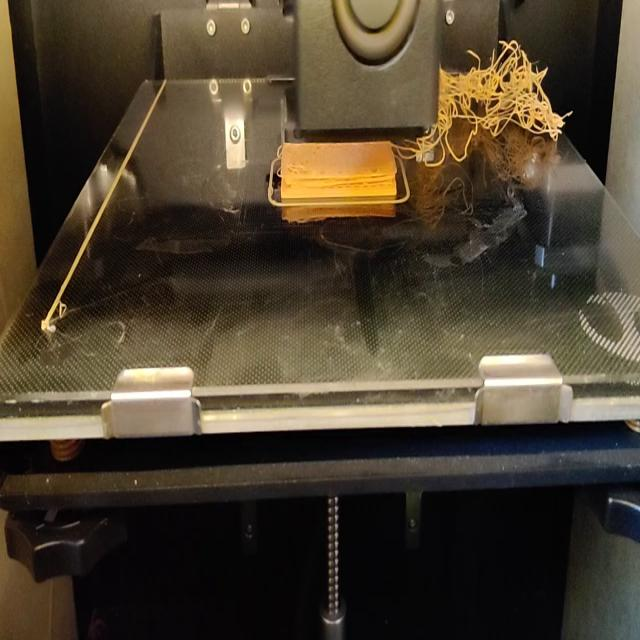spaghetti: (437, 40, 571, 164), (402, 133, 436, 169)
